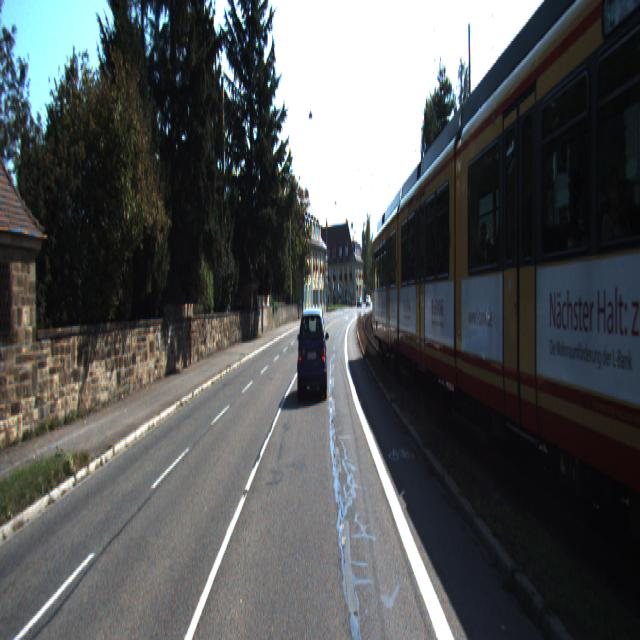Car: (298, 306, 329, 404)
DontCare: (356, 292, 370, 310)
Tram: (452, 0, 640, 613), (396, 107, 517, 431), (371, 188, 434, 376)
